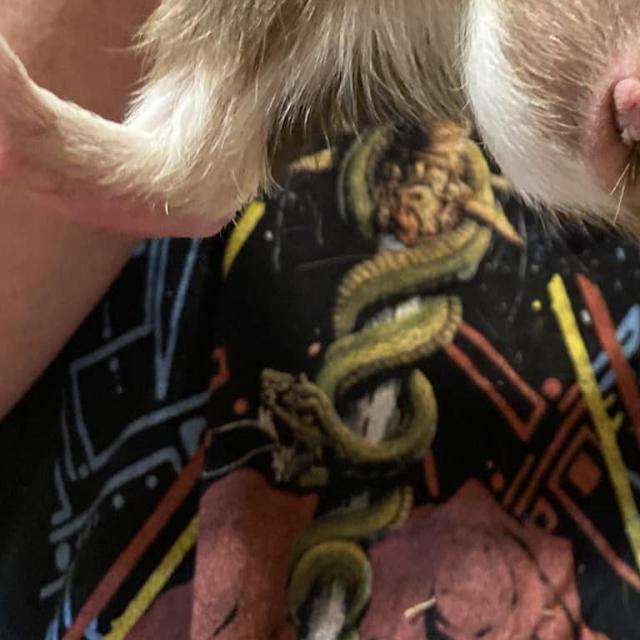mae: (569, 35, 640, 267)
mal: (600, 72, 640, 166)
